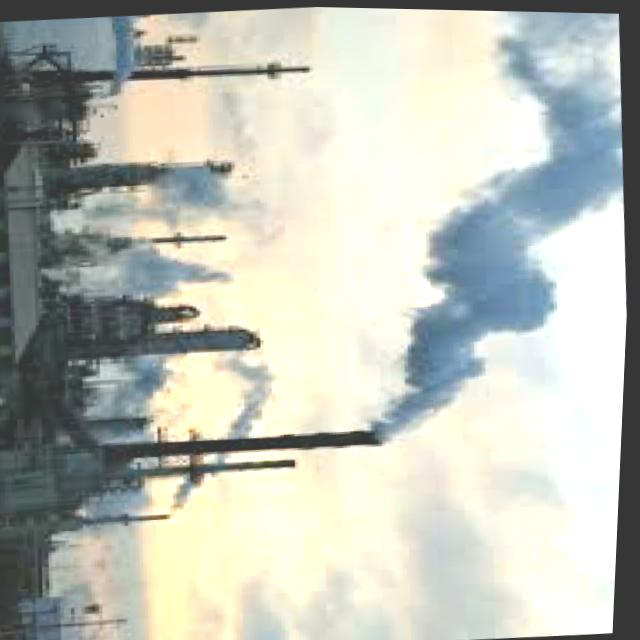no_helmet: (338, 6, 640, 450), (92, 155, 319, 525)
